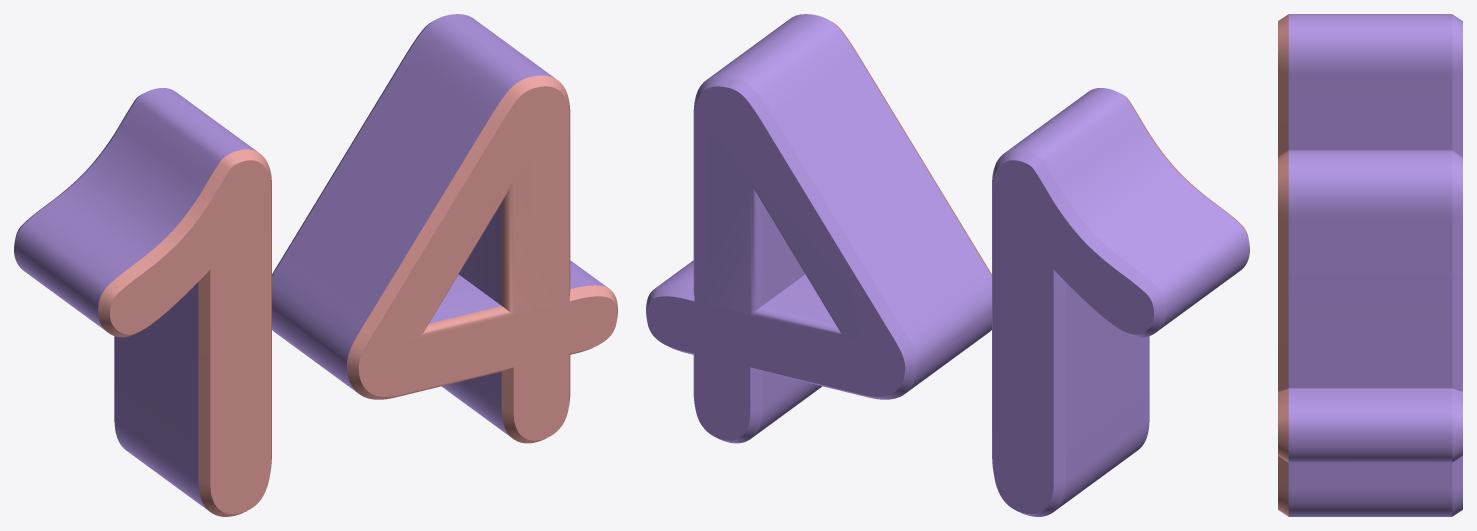
3 views of the same model, side by side, from view 1: azimuth 30°, elevation 25°; view 2: azimuth 150°, elevation 25°; view 3: azimuth 270°, elevation 25° (orthographic). The views are drawn at different scales.
Visible parts, largest first — view 1: Text.014; view 2: Text.014; view 3: Text.014.
Boxes of the visible parts, box(x1,y1,x2,y2) form: Text.014: box(14, 14, 617, 516); Text.014: box(646, 14, 1249, 516); Text.014: box(1278, 14, 1462, 516).
Size of the model in its own units: 245 by 165 by 77.6.
